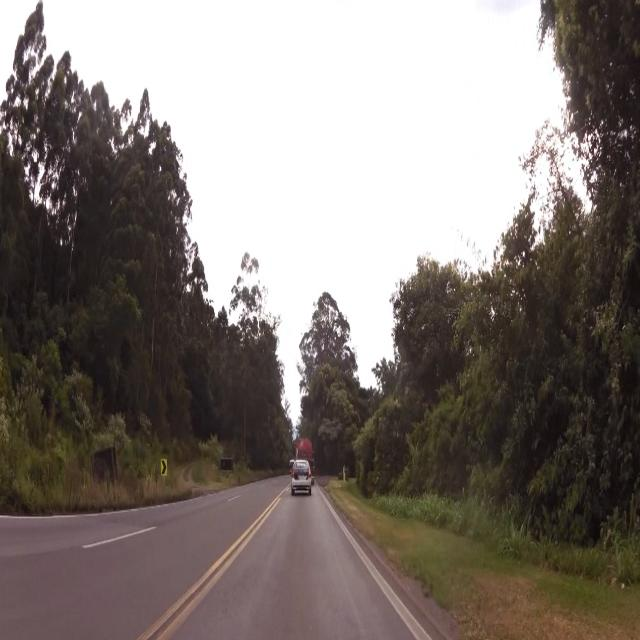Del: (160, 456, 168, 476)
